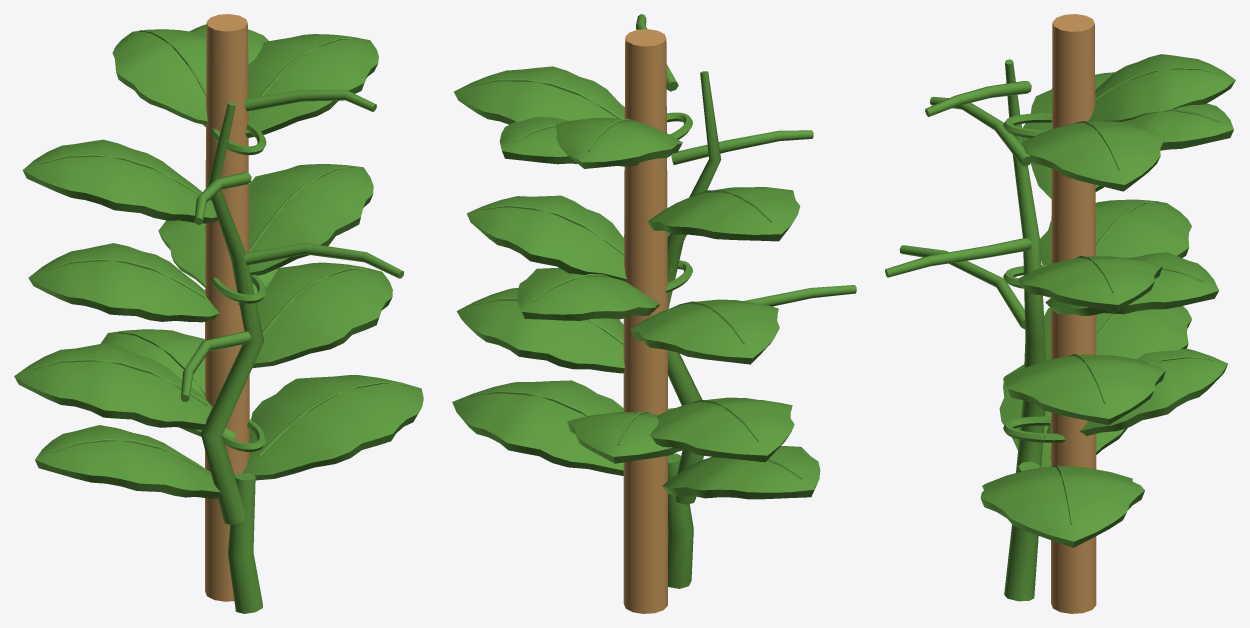
Rendered from plant001_body.glb.
The picture shows the model from 3 angles, left to right: view 1: azimuth 30°, elevation 25°; view 2: azimuth 150°, elevation 25°; view 3: azimuth 270°, elevation 25°; orthographic projection. The views are drawn at different scales.
Parts seen in each view (by area): view 1: Plant01 | static geometry; view 2: Plant01 | static geometry; view 3: Plant01 | static geometry.
Boxes of the visible parts, x1,y1,x2,y2 form: Plant01 | static geometry: (14, 14, 423, 613); Plant01 | static geometry: (452, 14, 856, 613); Plant01 | static geometry: (885, 14, 1235, 613).
Bounding box in the file's own units: 1.45 × 2.11 × 1.15.
